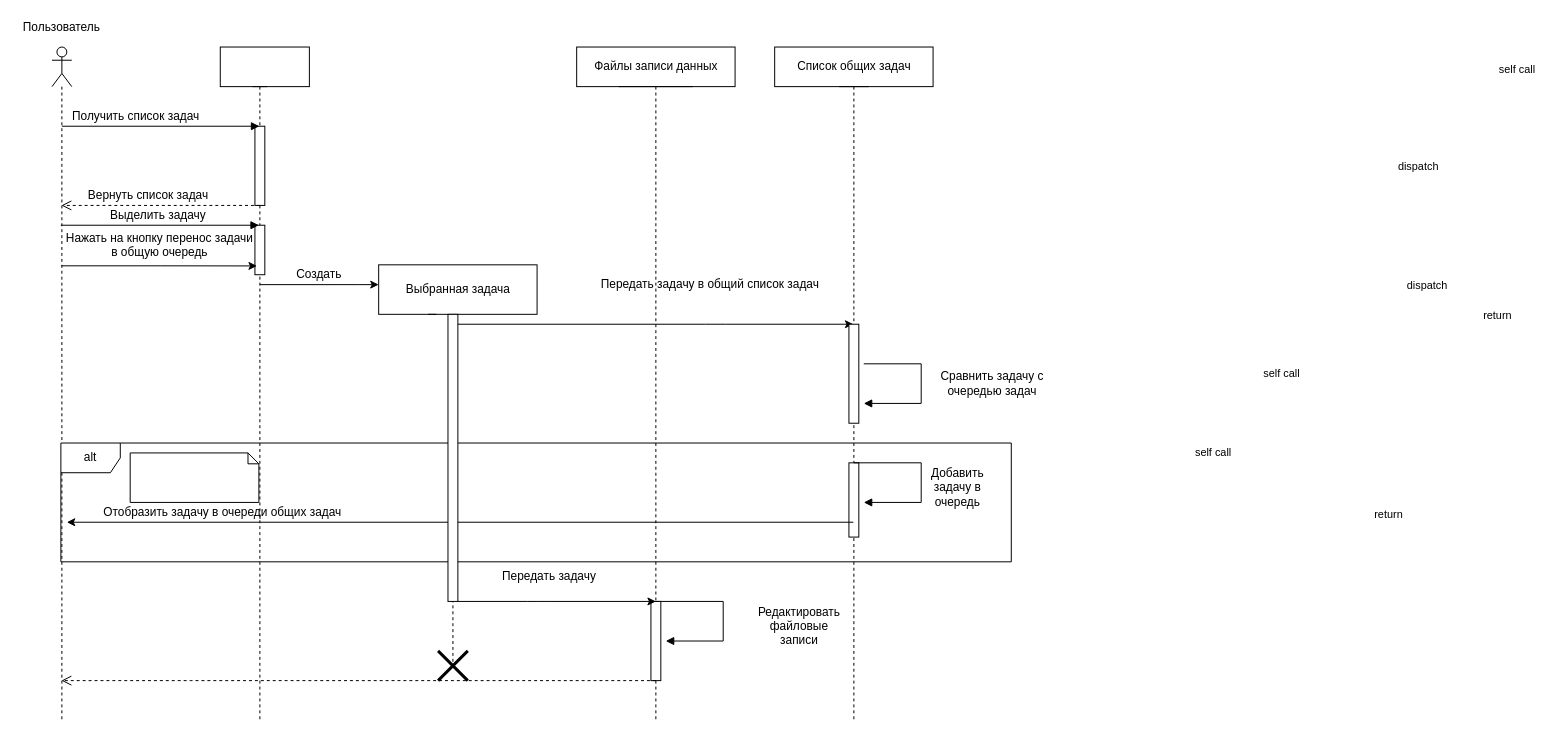
The diagram is 1552 pixels wide and 738 high, and some of its shapes have lost their labels. The centre of each missing label's shape, as x and y in pixels:
если задачи нет в очереди общих задач: the point at 194,477
Список задач: the point at 264,66
